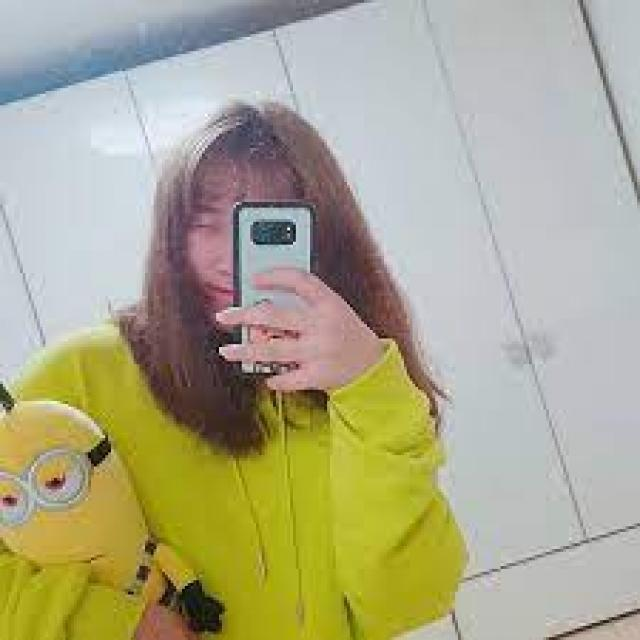Phone: (236, 203, 315, 376)
